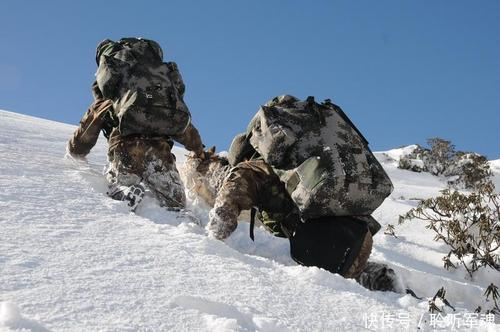fall: (59, 32, 213, 223)
